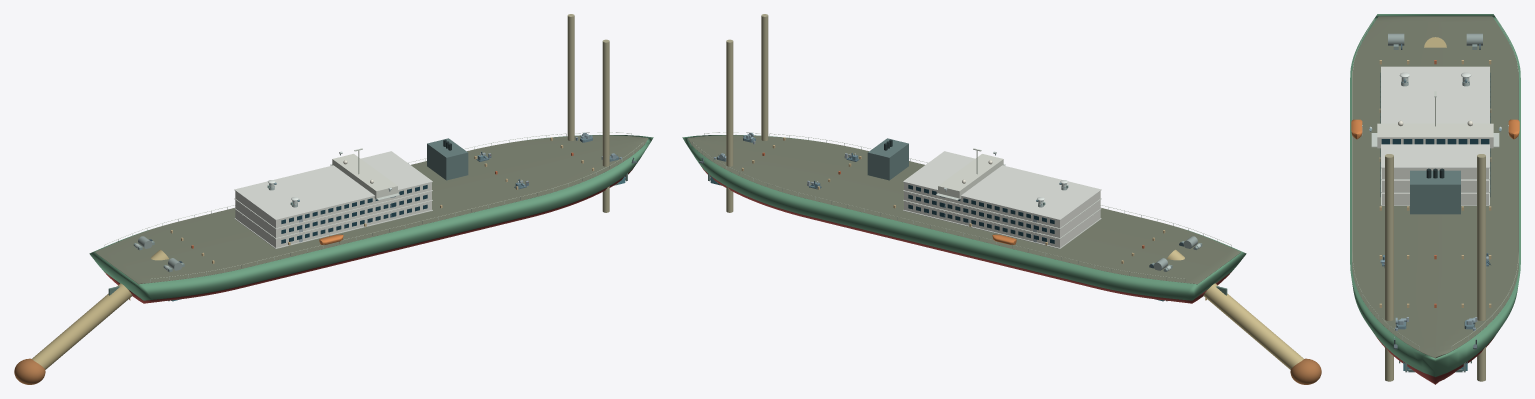
File: spartacus.lod1.glb
The picture shows the model from 3 angles, left to right: view 1: azimuth 30°, elevation 25°; view 2: azimuth 150°, elevation 25°; view 3: azimuth 270°, elevation 25°; orthographic projection. The views are drawn at different scales.
Parts seen in each view (by area): view 1: spartacus.structure.decks.main-strength-deck.1, spartacus.structure.hull.outer-hull-shell.1, spartacus.accommodation.superstructure.superstructure-weathe, spartacus.cargo.cutter-ladder.cutter-ladder.1, spartacus.accommodation.superstructure.deck-2-enclosure.1, spartacus.accommodation.superstructure.deck-1-enclosure.1, spartacus.structure.hull.antifouling-underwater-shell.1, spartacus.navigation.bridge.wheelhouse.1, spartacus.propulsion.exhaust.exhaust-casing.1, spartacus.accommodation.superstructure.deck-3-enclosure.1, spartacus.cargo.spuds.spud-1.2, spartacus.cargo.spuds.spud-1.1 (+1 smaller); view 2: spartacus.structure.decks.main-strength-deck.1, spartacus.structure.hull.outer-hull-shell.1, spartacus.accommodation.superstructure.superstructure-weathe, spartacus.cargo.cutter-ladder.cutter-ladder.1, spartacus.accommodation.superstructure.deck-2-enclosure.1, spartacus.accommodation.superstructure.deck-1-enclosure.1, spartacus.structure.hull.antifouling-underwater-shell.1, spartacus.navigation.bridge.wheelhouse.1, spartacus.propulsion.exhaust.exhaust-casing.1, spartacus.accommodation.superstructure.deck-3-enclosure.1, spartacus.cargo.spuds.spud-1.1, spartacus.cargo.spuds.spud-1.2 (+1 smaller); view 3: spartacus.structure.decks.main-strength-deck.1, spartacus.accommodation.superstructure.superstructure-weathe, spartacus.structure.hull.outer-hull-shell.1, spartacus.propulsion.exhaust.exhaust-casing.1, spartacus.navigation.bridge.wheelhouse.1, spartacus.cargo.spuds.spud-1.1, spartacus.cargo.spuds.spud-1.2, spartacus.accommodation.superstructure.deck-3-enclosure.1, spartacus.accommodation.superstructure.deck-1-enclosure.1, spartacus.accommodation.superstructure.deck-2-enclosure.1, spartacus.structure.hull.antifouling-underwater-shell.1, spartacus.mooring.aft-mooring.port-aft-mooring-winch.1 (+4 smaller).
Part boxes in pixels (box(x1,y1,x2,y2)): spartacus.structure.decks.main-strength-deck.1: box(95, 135, 648, 284); spartacus.structure.hull.outer-hull-shell.1: box(89, 135, 653, 300); spartacus.accommodation.superstructure.superstructure-weathe: box(234, 151, 432, 220); spartacus.cargo.cutter-ladder.cutter-ladder.1: box(32, 249, 168, 369); spartacus.accommodation.superstructure.deck-2-enclosure.1: box(235, 191, 431, 237); spartacus.accommodation.superstructure.deck-1-enclosure.1: box(235, 201, 431, 247); spartacus.structure.hull.antifouling-underwater-shell.1: box(104, 166, 634, 303); spartacus.navigation.bridge.wheelhouse.1: box(332, 154, 397, 199); spartacus.propulsion.exhaust.exhaust-casing.1: box(427, 138, 468, 180); spartacus.accommodation.superstructure.deck-3-enclosure.1: box(235, 182, 431, 228); spartacus.cargo.spuds.spud-1.2: box(602, 39, 609, 212); spartacus.cargo.spuds.spud-1.1: box(567, 14, 574, 140); spartacus.structure.decks.main-strength-deck.1: box(687, 135, 1240, 284); spartacus.structure.hull.outer-hull-shell.1: box(682, 135, 1246, 300); spartacus.accommodation.superstructure.superstructure-weathe: box(903, 151, 1101, 220); spartacus.cargo.cutter-ladder.cutter-ladder.1: box(1167, 249, 1303, 369); spartacus.accommodation.superstructure.deck-2-enclosure.1: box(904, 191, 1100, 237); spartacus.accommodation.superstructure.deck-1-enclosure.1: box(904, 201, 1100, 247); spartacus.structure.hull.antifouling-underwater-shell.1: box(701, 166, 1231, 303); spartacus.navigation.bridge.wheelhouse.1: box(938, 154, 1003, 199); spartacus.propulsion.exhaust.exhaust-casing.1: box(867, 138, 908, 180); spartacus.accommodation.superstructure.deck-3-enclosure.1: box(904, 182, 1100, 228); spartacus.cargo.spuds.spud-1.1: box(726, 39, 733, 212); spartacus.cargo.spuds.spud-1.2: box(761, 14, 768, 140); spartacus.structure.decks.main-strength-deck.1: box(1352, 16, 1518, 358); spartacus.accommodation.superstructure.superstructure-weathe: box(1381, 66, 1489, 168); spartacus.structure.hull.outer-hull-shell.1: box(1350, 14, 1520, 376); spartacus.propulsion.exhaust.exhaust-casing.1: box(1410, 170, 1460, 214); spartacus.navigation.bridge.wheelhouse.1: box(1377, 123, 1493, 148); spartacus.cargo.spuds.spud-1.1: box(1477, 154, 1485, 381); spartacus.cargo.spuds.spud-1.2: box(1385, 154, 1393, 381); spartacus.accommodation.superstructure.deck-3-enclosure.1: box(1382, 168, 1488, 178); spartacus.accommodation.superstructure.deck-1-enclosure.1: box(1382, 193, 1488, 204); spartacus.accommodation.superstructure.deck-2-enclosure.1: box(1382, 180, 1488, 191); spartacus.structure.hull.antifouling-underwater-shell.1: box(1376, 336, 1494, 384); spartacus.mooring.aft-mooring.port-aft-mooring-winch.1: box(1466, 33, 1482, 45).
Size of the model in its own units: 193 by 63.16 by 34.
